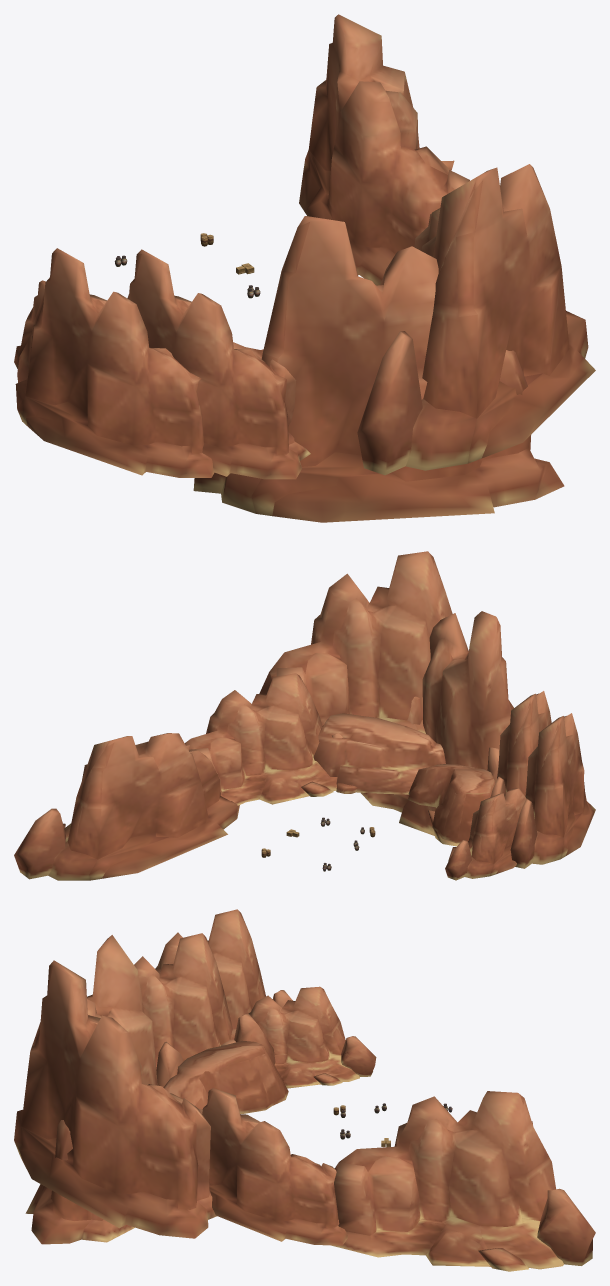
File: Area_04_1.fbx
3 views of the same model, one above another, from view 1: azimuth 30°, elevation 25°; view 2: azimuth 150°, elevation 25°; view 3: azimuth 270°, elevation 25° (orthographic). The views are drawn at different scales.
Visible parts, largest first — view 1: Area_04_1; view 2: Area_04_1; view 3: Area_04_1.
Part boxes in pixels (box(x1,y1,x2,y2)): Area_04_1: box(14, 14, 595, 522); Area_04_1: box(14, 551, 595, 880); Area_04_1: box(14, 909, 595, 1271).
Size of the model in its own units: 8538 by 4516 by 9394.
1 material, 1 textured.
